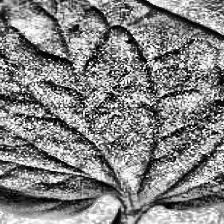disease: (0, 0, 224, 219)
